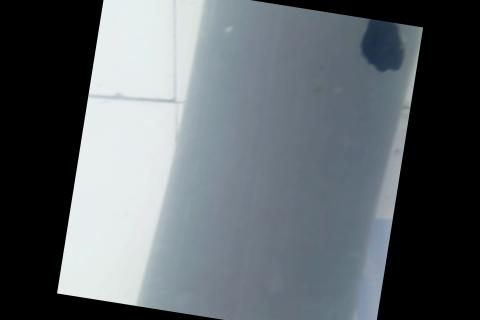kebocoran: (354, 17, 411, 75)
